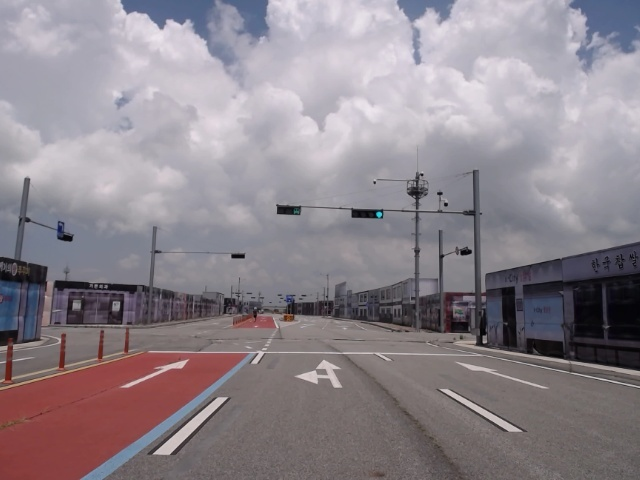straight_green_4: (351, 209, 384, 219)
